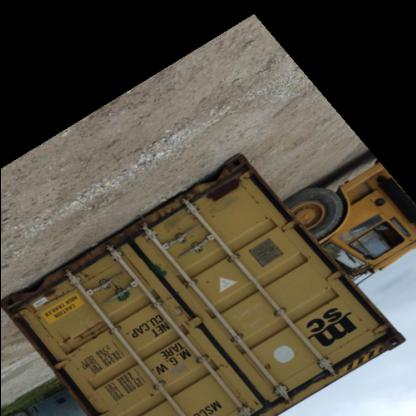Damage: (206, 174, 249, 209), (57, 324, 111, 350), (362, 312, 395, 348), (167, 268, 204, 300), (104, 273, 135, 311), (136, 372, 164, 402), (259, 356, 275, 380)
